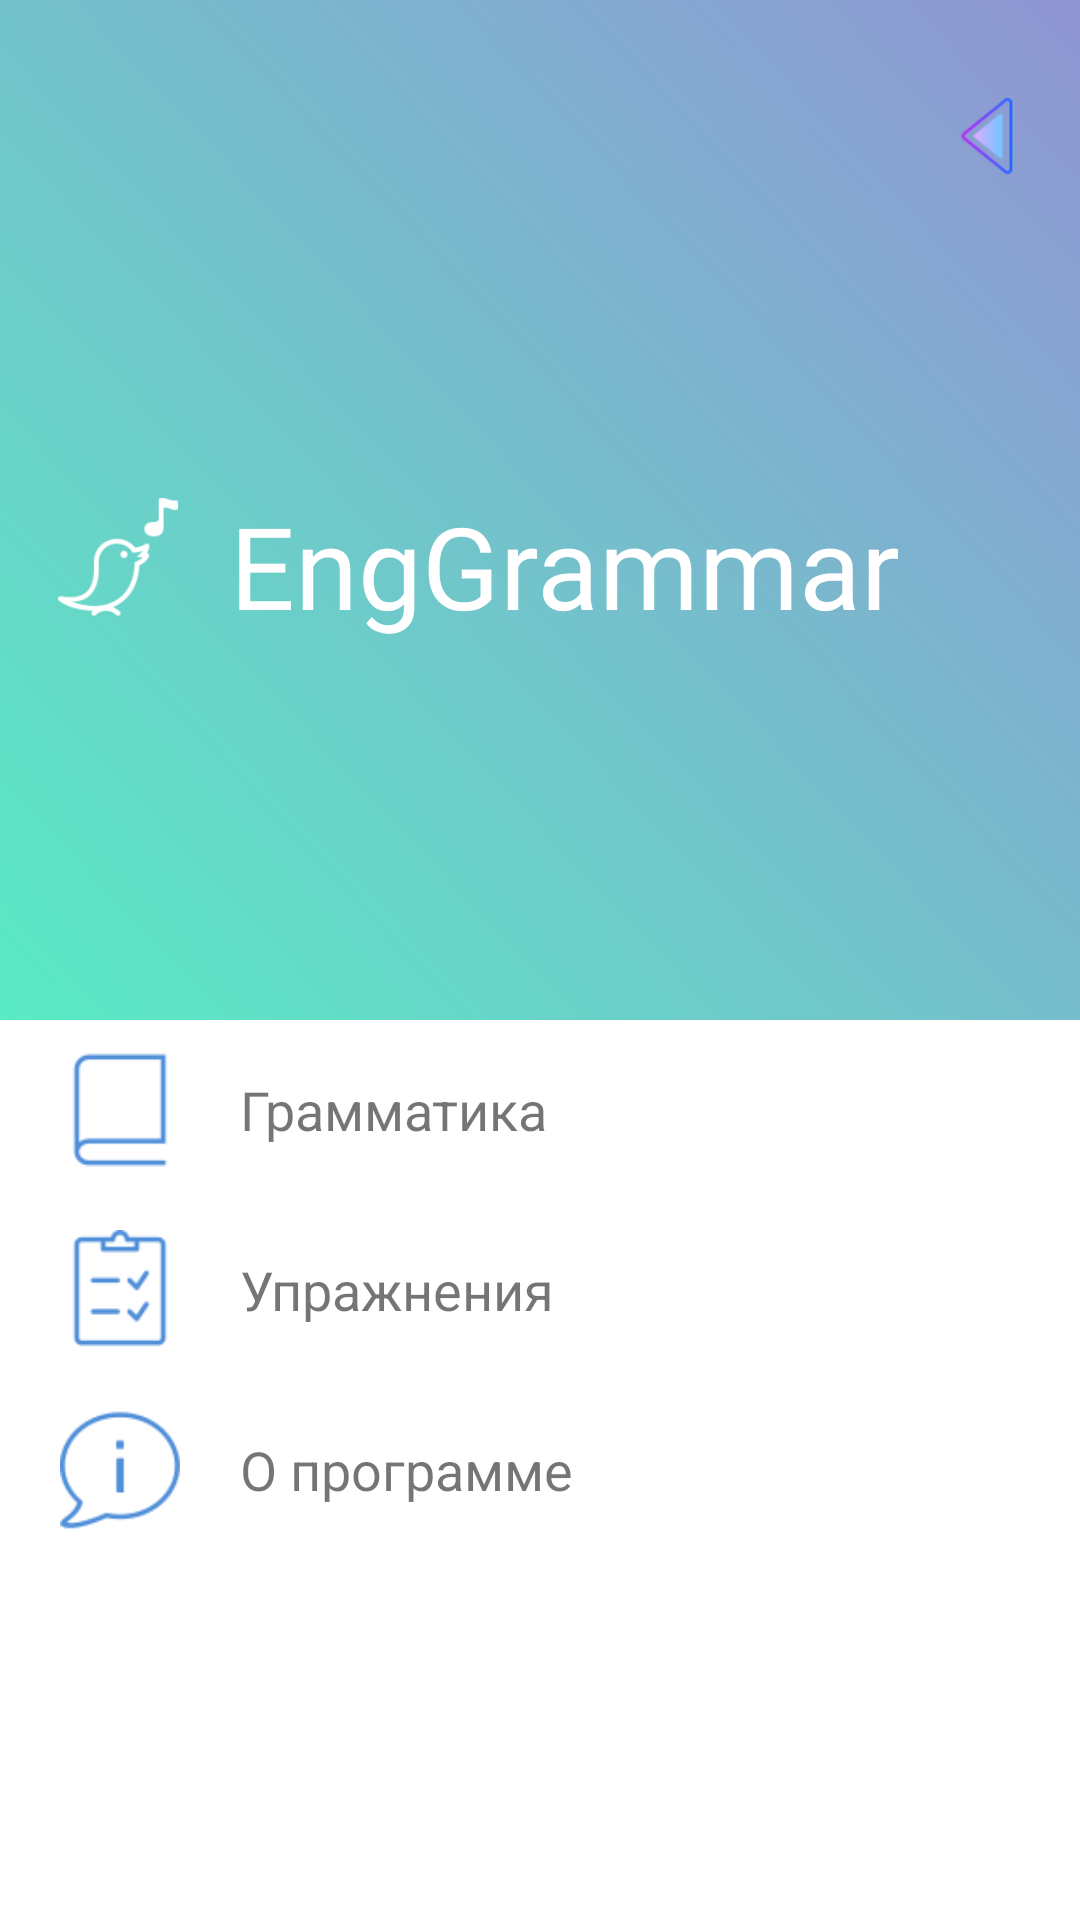

Screen size 1080*1920. Icon name, then its center in pixels as point (x, y):
about: point (120, 1470)
arrow back: point (987, 136)
bird: point (118, 557)
read: point (120, 1110)
tests: point (120, 1288)
